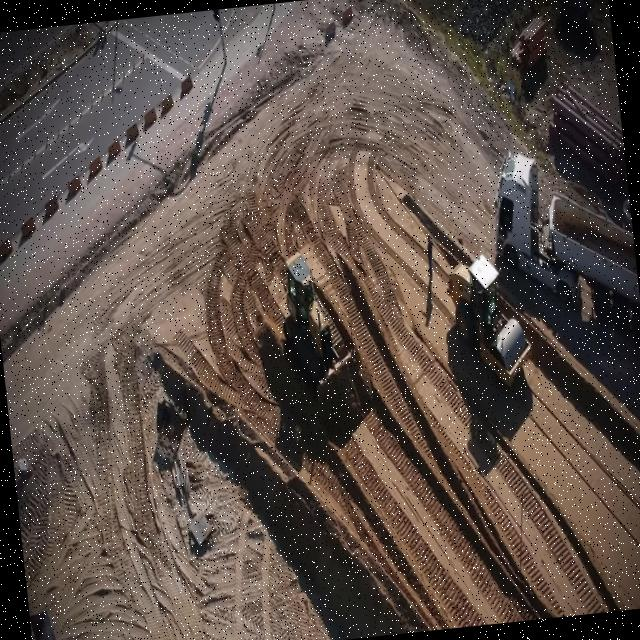Dump Truck: (488, 139, 640, 384)
Roller: (442, 239, 532, 384)
